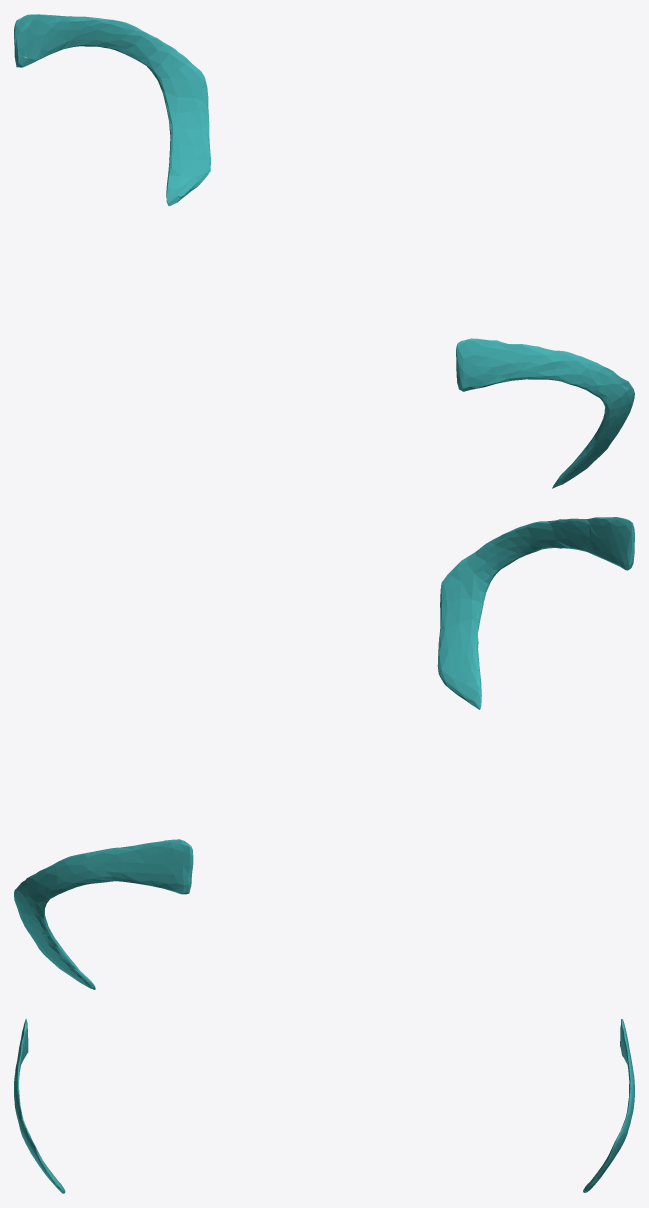
3 views of the same model, one above another, from view 1: azimuth 30°, elevation 25°; view 2: azimuth 150°, elevation 25°; view 3: azimuth 270°, elevation 25° (orthographic). The views are drawn at different scales.
Visible parts, largest first — view 1: 234.obj; view 2: 234.obj; view 3: 234.obj.
Boxes of the visible parts, x1,y1,x2,y2 form: 234.obj: (14,14,634,488); 234.obj: (14,517,634,989); 234.obj: (14,1018,634,1193).
Size of the model in its own units: 2275 by 2334 by 9743.
